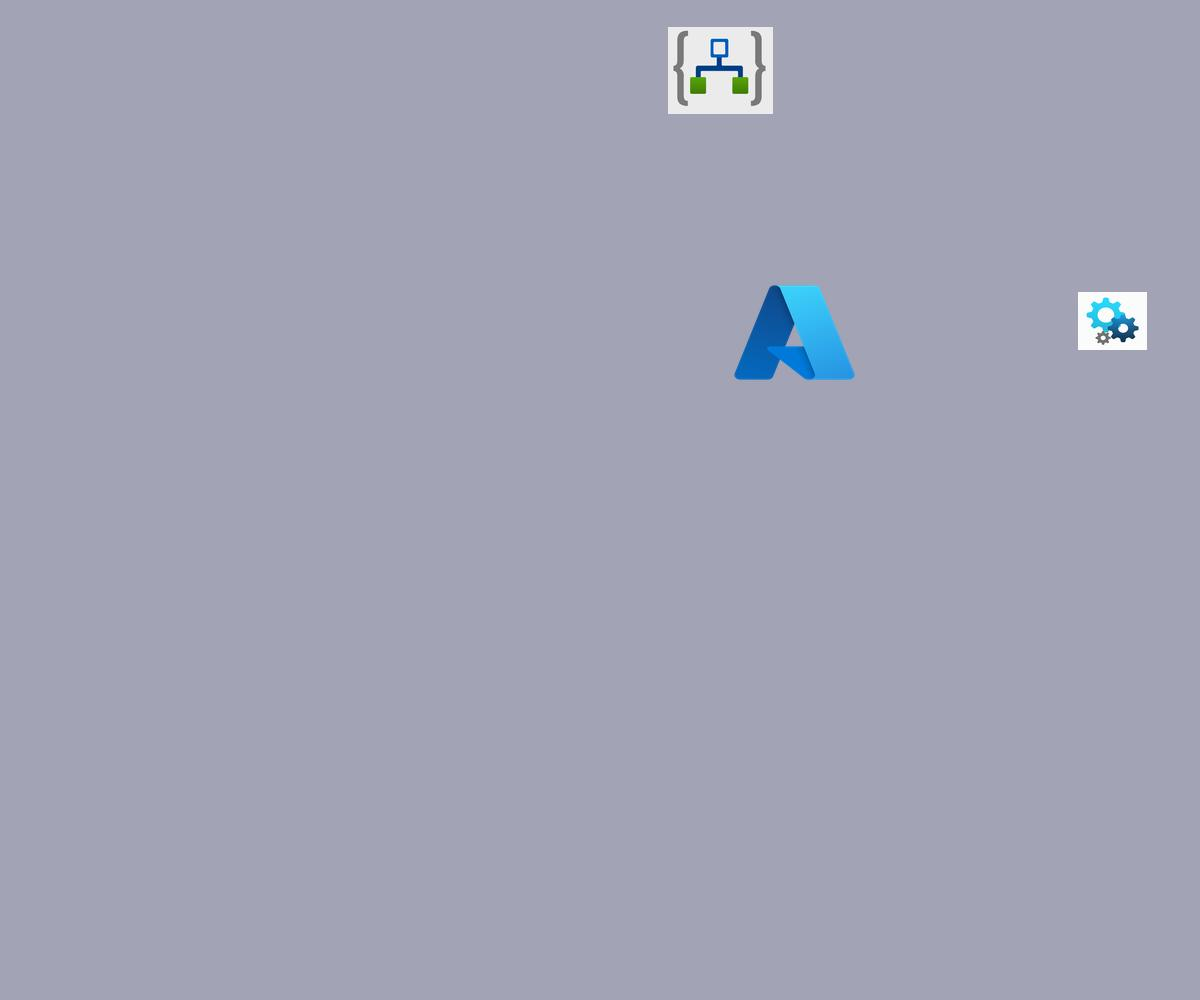Azure_api: (1078, 292, 1147, 350)
Azure_integration-204-Logic-Apps: (668, 27, 773, 114)
Azure_services: (729, 278, 860, 387)
